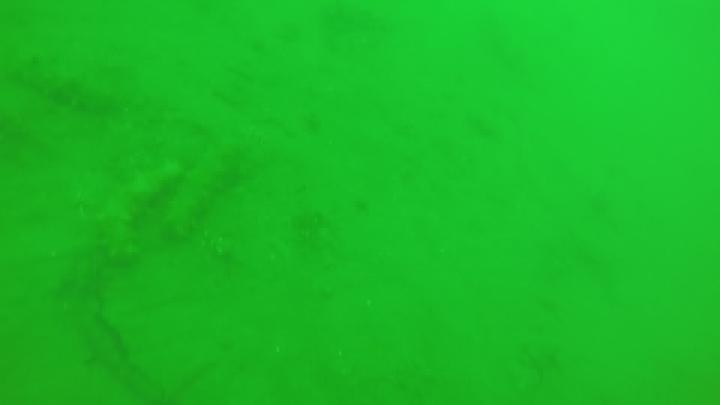holothurian: (91, 156, 187, 266), (160, 143, 249, 240), (7, 52, 119, 115)
